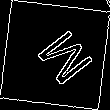M_SW: (21, 21, 89, 89)
